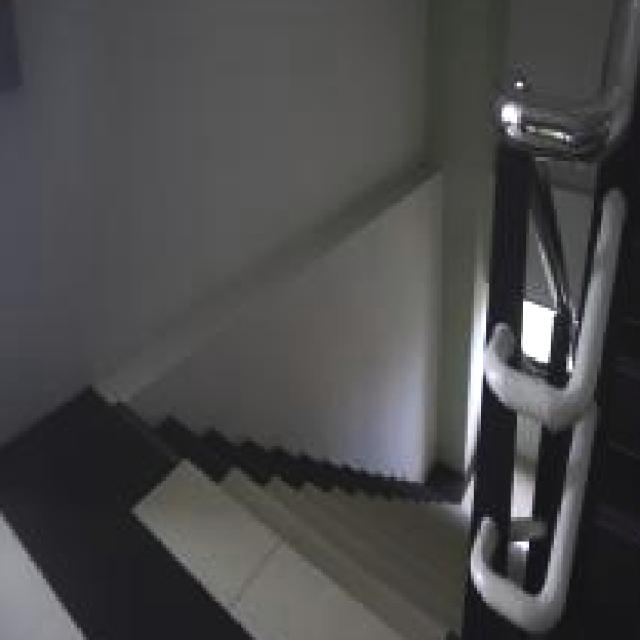downstair: (109, 478, 426, 640)
